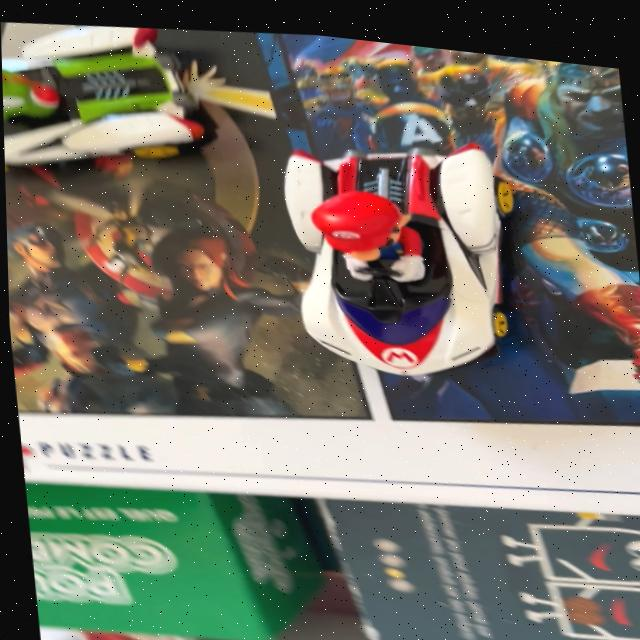mario: (249, 103, 549, 395)
yoshi: (0, 7, 265, 210)
